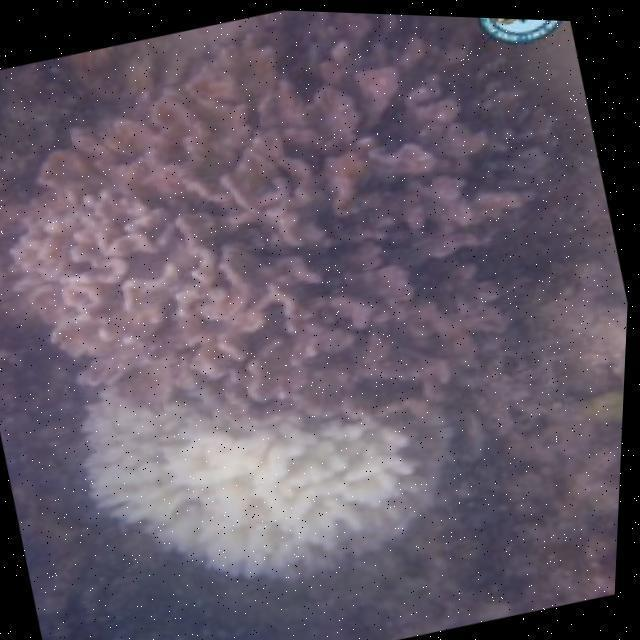Bleached Coral: (86, 398, 446, 590)
Healthy Coral: (9, 46, 556, 400)
